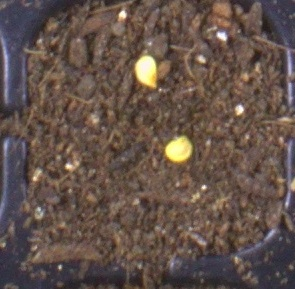chilli seed: (164, 135, 192, 163), (134, 55, 157, 89)
